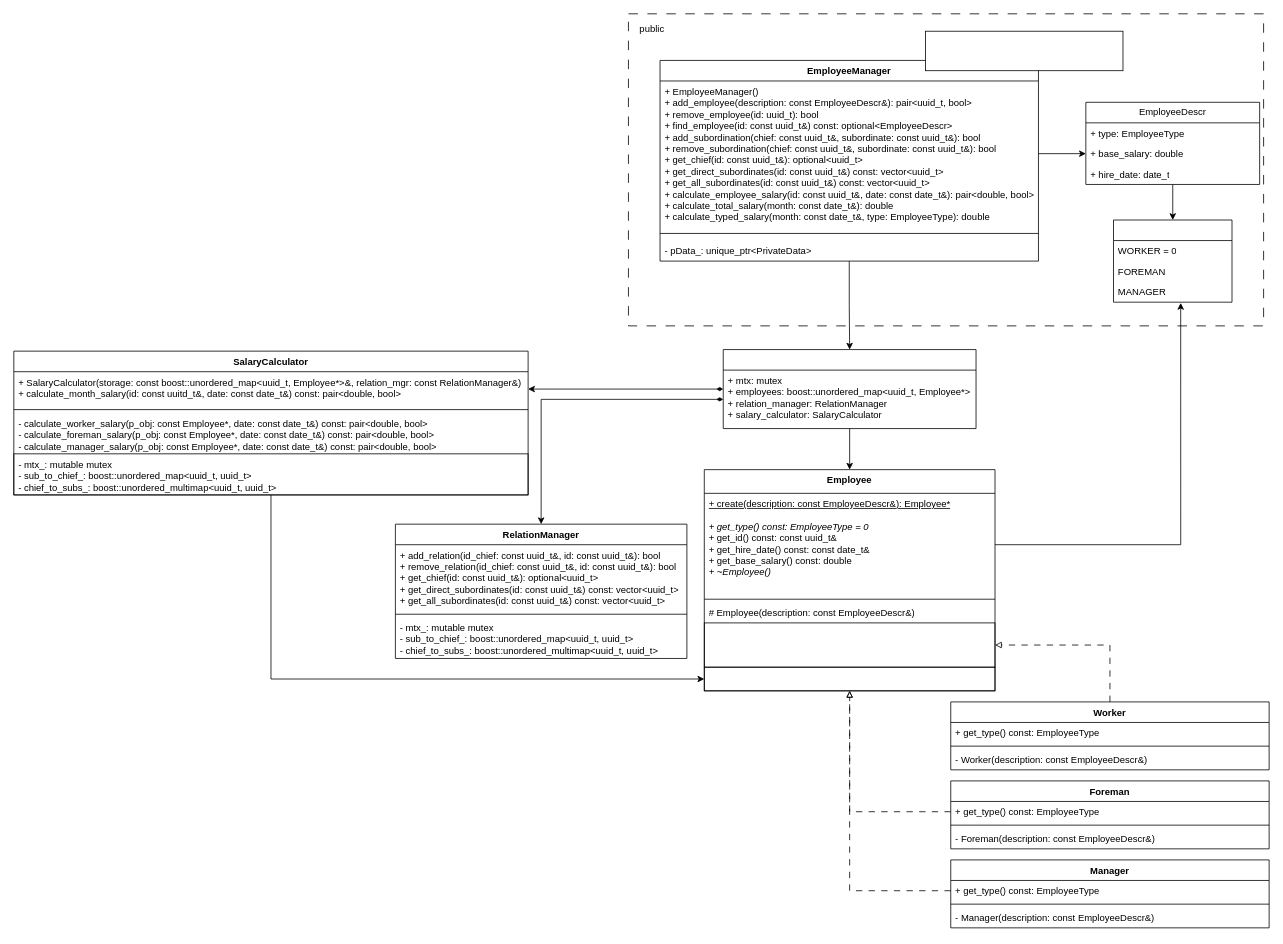
Image size: 1283x944. Some labels were removed from this diagram. Here are the shapes that lost their labels. From the top down, the box of each, then its label:
(925, 30, 1123, 71): <<using>> date_t = boost::gregorian::date uuid_t = boost::uuids:uuid
(1113, 219, 1232, 302): <<enum class>> EmployeeType
(722, 349, 976, 429): PrivateData
(703, 622, 995, 667): # hire_date: date_t # base_salary_: double # type_: EmployeeType
(703, 666, 995, 691): - id_: uuid_t
